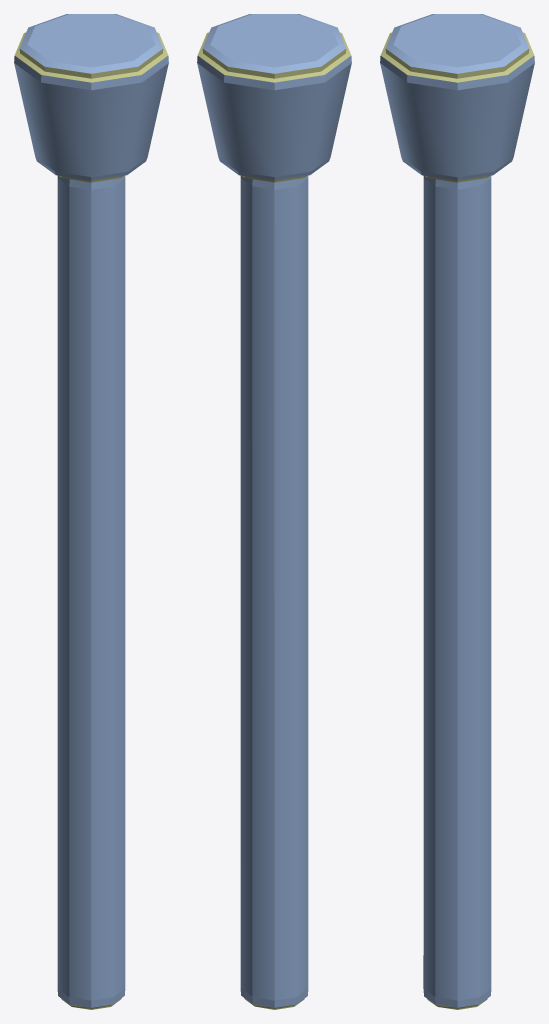
File: palopuente.fbx
The picture shows the model from 3 angles, left to right: view 1: azimuth 30°, elevation 25°; view 2: azimuth 150°, elevation 25°; view 3: azimuth 270°, elevation 25°; orthographic projection.
Parts seen in each view (by area): view 1: Cylinder003; view 2: Cylinder003; view 3: Cylinder003.
Part boxes in pixels (<box>): Cylinder003: <box>14,14,168,1009</box>; Cylinder003: <box>197,14,351,1009</box>; Cylinder003: <box>380,14,534,1009</box>.
Bounding box in the file's own units: 16.57 × 115 × 16.82.
